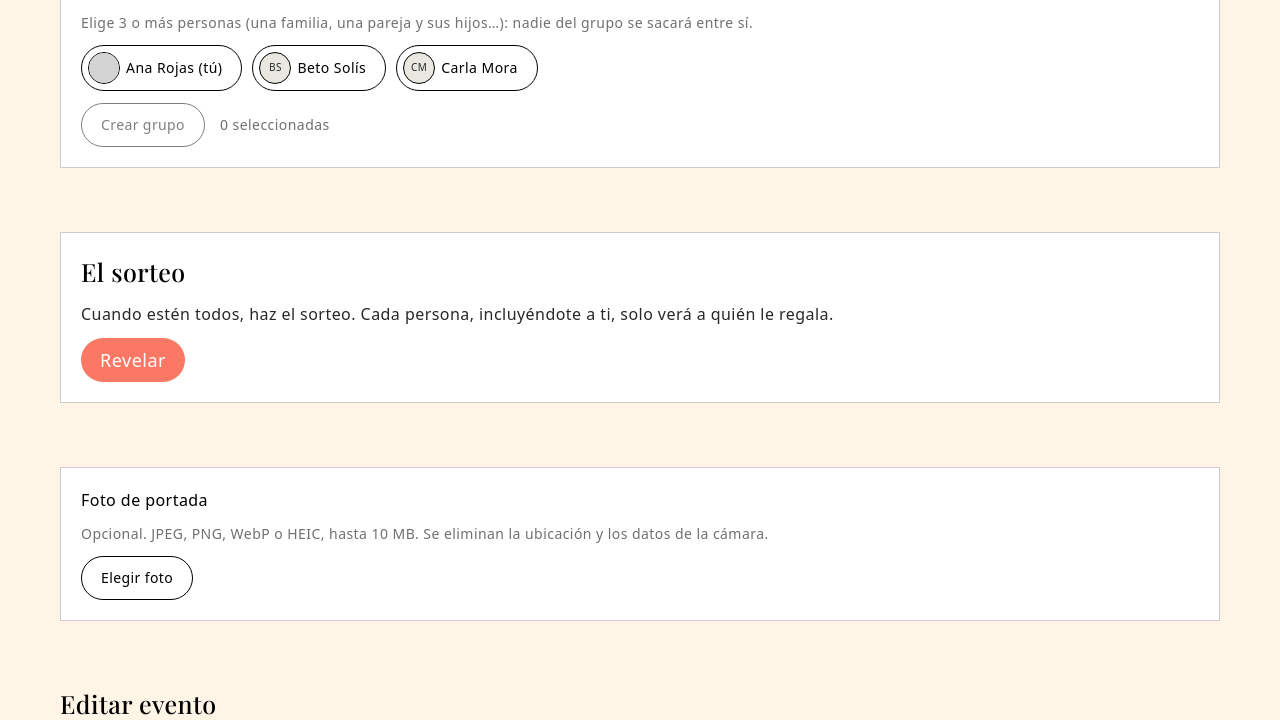
Test: Manage › Reveal › has no axe violations (section and open modal)
(page scrolled)
Click the button "Revelar" at (133, 360), box [81, 338, 185, 382]
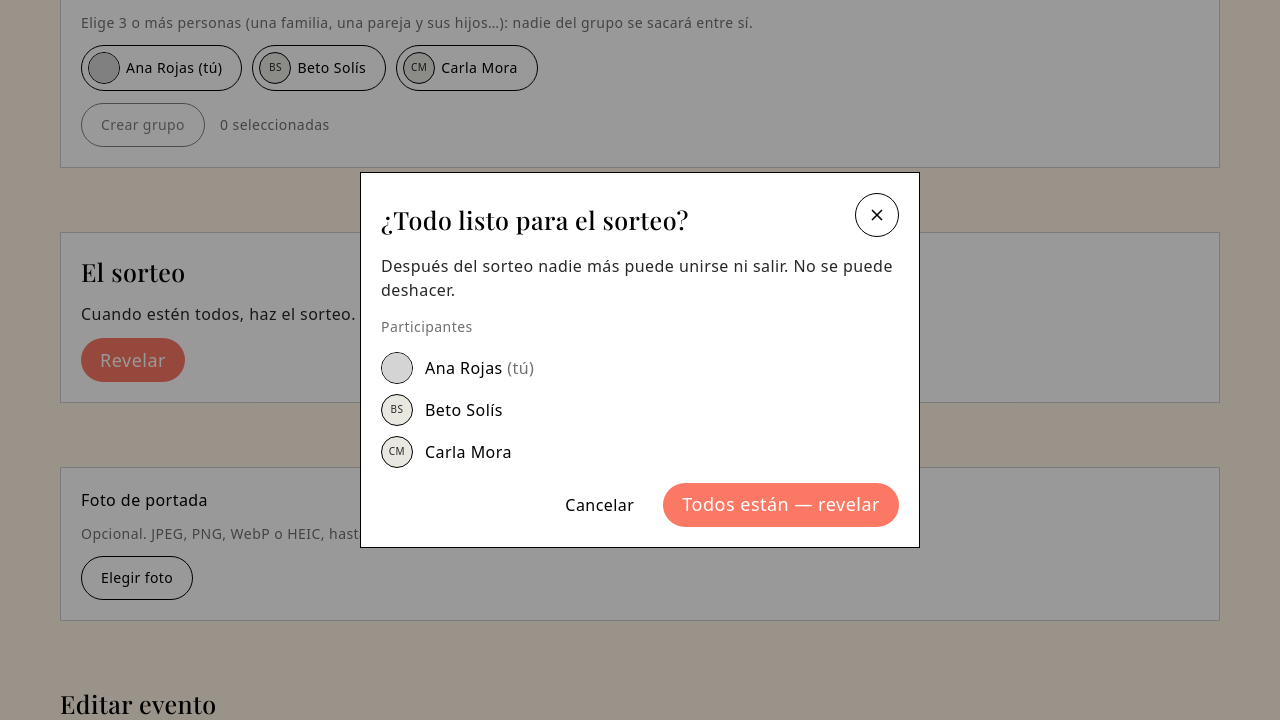
Now the list named "Participantes" is shown, box [381, 352, 534, 468]
